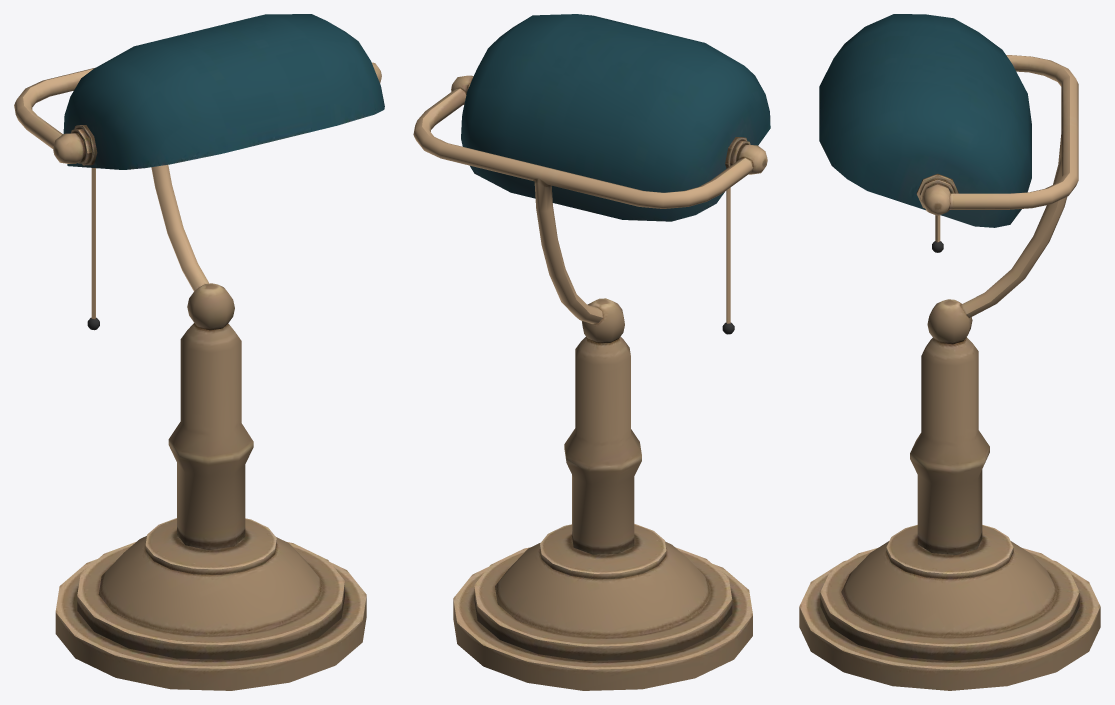
Rendered from desklamp.glb.
3 renders of one model, left to right at view 1: azimuth 30°, elevation 25°; view 2: azimuth 150°, elevation 25°; view 3: azimuth 270°, elevation 25°, orthographic. The views are drawn at different scales.
Parts seen in each view (by area): view 1: lampara_mesa_low_lampMesa-metal_0, lampara_mesa_low_lampMesa-tulipa_0; view 2: lampara_mesa_low_lampMesa-metal_0, lampara_mesa_low_lampMesa-tulipa_0; view 3: lampara_mesa_low_lampMesa-metal_0, lampara_mesa_low_lampMesa-tulipa_0.
Part boxes in pixels (left/top/right/bottom): lampara_mesa_low_lampMesa-metal_0: left=14, top=62, right=381, bottom=690; lampara_mesa_low_lampMesa-tulipa_0: left=63, top=14, right=384, bottom=169; lampara_mesa_low_lampMesa-metal_0: left=413, top=75, right=767, bottom=690; lampara_mesa_low_lampMesa-tulipa_0: left=461, top=14, right=770, bottom=221; lampara_mesa_low_lampMesa-metal_0: left=799, top=55, right=1100, bottom=690; lampara_mesa_low_lampMesa-tulipa_0: left=819, top=14, right=1031, bottom=227.
Bounding box in the file's own units: 0.3085 × 0.5497 × 0.2604.
Materials: 4 (2 with a texture image).
